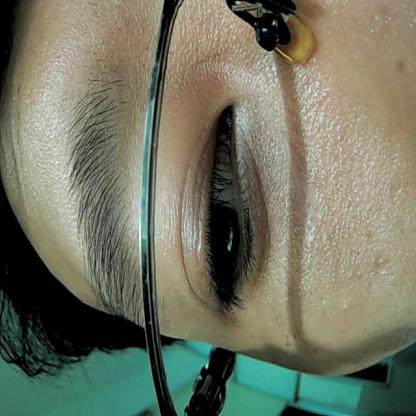Right: (180, 95, 272, 319)
